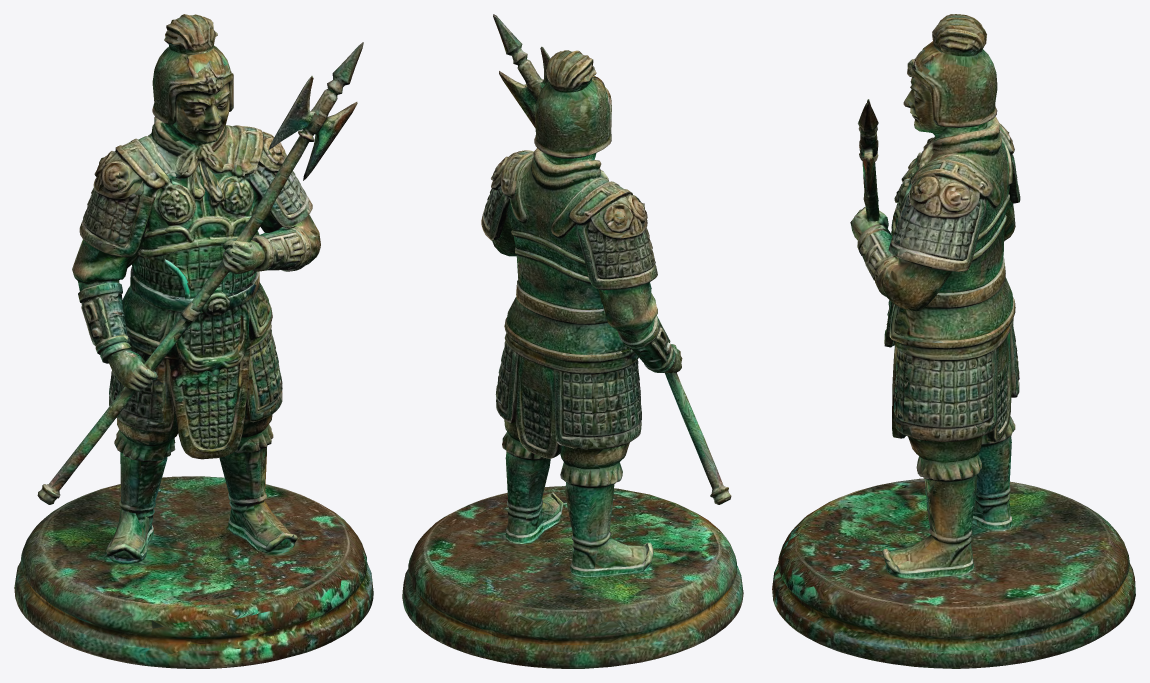
Rendered from piece_guard.glb.
The picture shows the model from 3 angles, left to right: view 1: azimuth 30°, elevation 25°; view 2: azimuth 150°, elevation 25°; view 3: azimuth 270°, elevation 25°; orthographic projection. The views are drawn at different scales.
Visible parts, largest first — view 1: mesh; view 2: mesh; view 3: mesh.
Part boxes in pixels (x1,y1,x2,y2): mesh: [14, 14, 373, 668]; mesh: [402, 14, 743, 668]; mesh: [772, 14, 1135, 668].
Size of the model in its own units: 0.5755 by 1 by 0.5733.
Materials: 1 (1 with a texture image).
